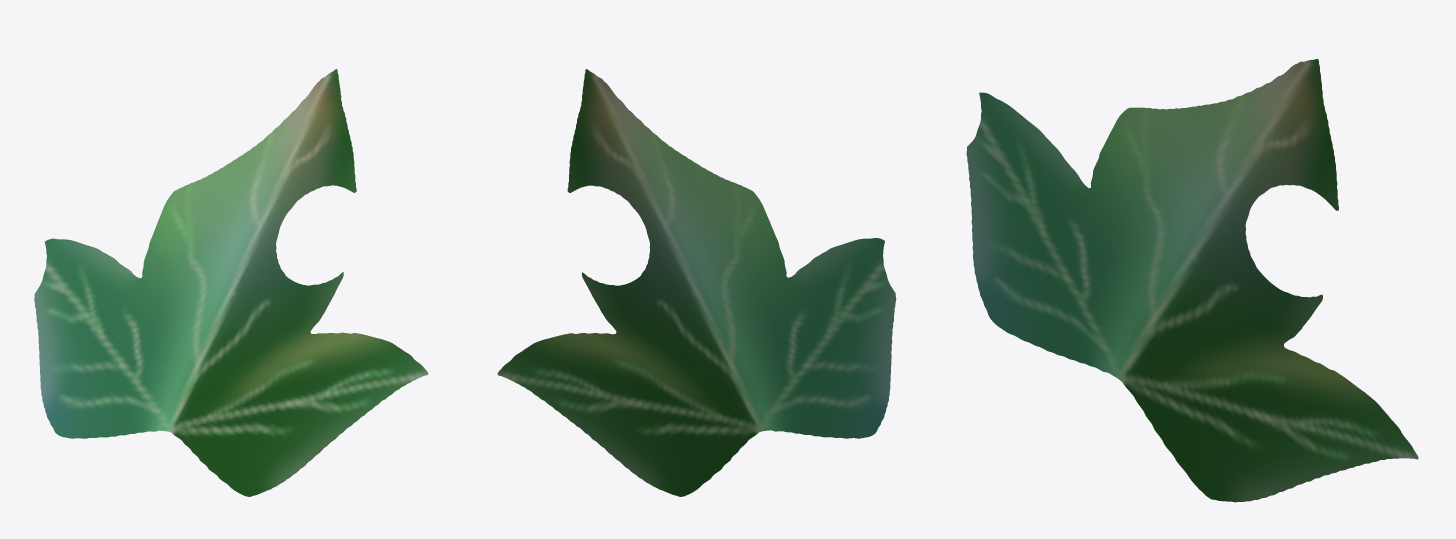
The model's file is lierres_solo_1.fbx.
3 views of the same model, side by side, from view 1: azimuth 30°, elevation 25°; view 2: azimuth 150°, elevation 25°; view 3: azimuth 330°, elevation 25° (orthographic). The views are drawn at different scales.
Visible parts, largest first — view 1: lierres_solo_1; view 2: lierres_solo_1; view 3: lierres_solo_1.
Part boxes in pixels (bbox=[...]): lierres_solo_1: bbox=[34, 69, 428, 496]; lierres_solo_1: bbox=[497, 69, 896, 496]; lierres_solo_1: bbox=[966, 59, 1418, 502].
Bounding box in the file's own units: 29.64 × 31.01 × 0.4384.
